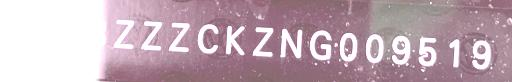letter: (46, 14, 80, 48), (14, 11, 40, 44), (277, 27, 303, 59), (469, 37, 495, 69), (196, 23, 220, 57), (250, 23, 274, 57), (309, 28, 333, 62), (168, 18, 190, 54), (223, 23, 245, 59), (140, 19, 162, 53), (112, 18, 136, 49), (338, 31, 358, 64), (363, 33, 385, 63), (418, 34, 438, 67), (391, 34, 411, 65), (86, 17, 106, 47), (446, 36, 462, 70)
